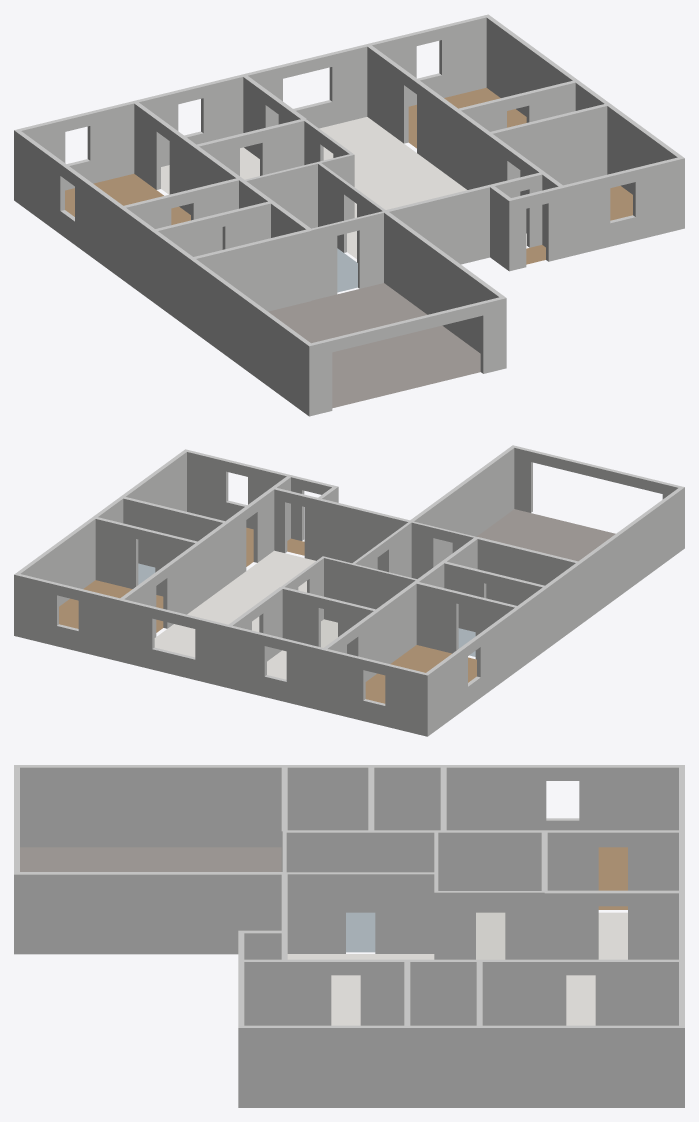
The model's file is enchanted-haven-3d.glb.
The picture shows the model from 3 angles, top to bottom: view 1: azimuth 30°, elevation 25°; view 2: azimuth 150°, elevation 25°; view 3: azimuth 270°, elevation 25°; orthographic projection. The views are drawn at different scales.
Visible parts, largest first — view 1: walls, floors; view 2: walls, floors; view 3: walls, floors.
Part boxes in pixels (x1,y1,x2,y2): walls: (14,14,684,416); floors: (65,87,632,408); walls: (14,445,684,736); floors: (59,509,615,703); walls: (14,765,684,1107); floors: (20,847,627,1025).
Bounding box in the file's own units: 17.24 × 2.44 × 18.58.
